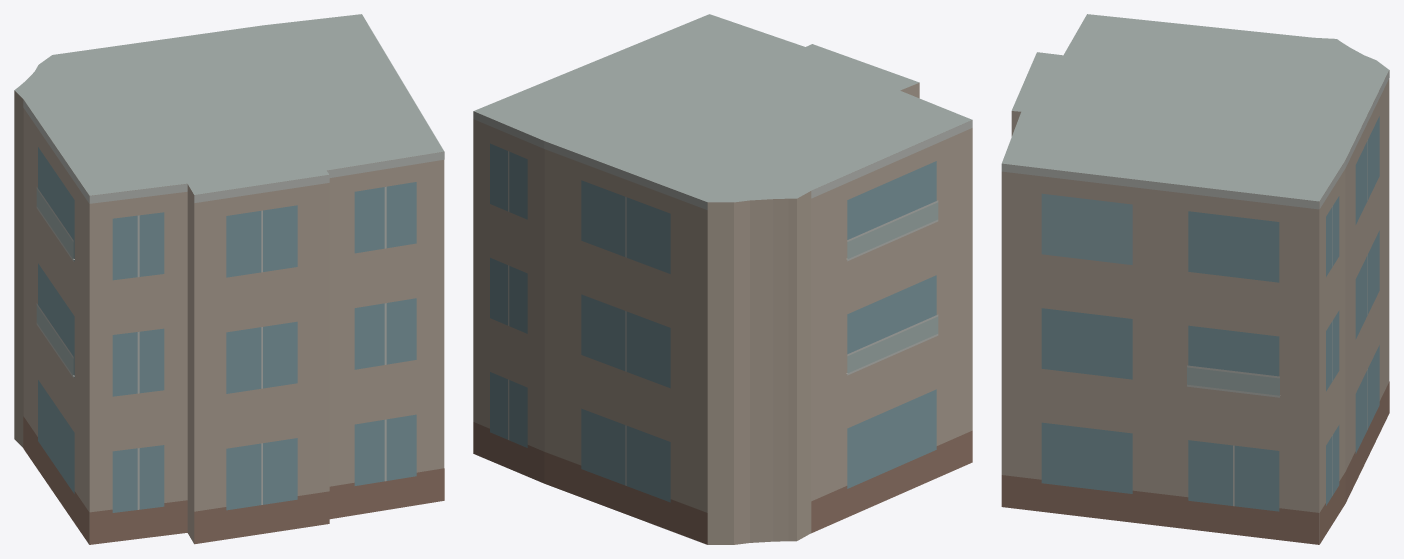
Rendered from survey-upis-32538497.glb.
The picture shows the model from 3 angles, left to right: view 1: azimuth 30°, elevation 25°; view 2: azimuth 150°, elevation 25°; view 3: azimuth 270°, elevation 25°; orthographic projection.
Visible parts, largest first — view 1: survey-upis-32538497.tmp; view 2: survey-upis-32538497.tmp; view 3: survey-upis-32538497.tmp.
Part boxes in pixels (<box>): survey-upis-32538497.tmp: <box>14,14,444,544</box>; survey-upis-32538497.tmp: <box>473,14,972,544</box>; survey-upis-32538497.tmp: <box>1001,14,1389,544</box>.
Bounding box in the file's own units: 12.3 × 10.5 × 10.76.
